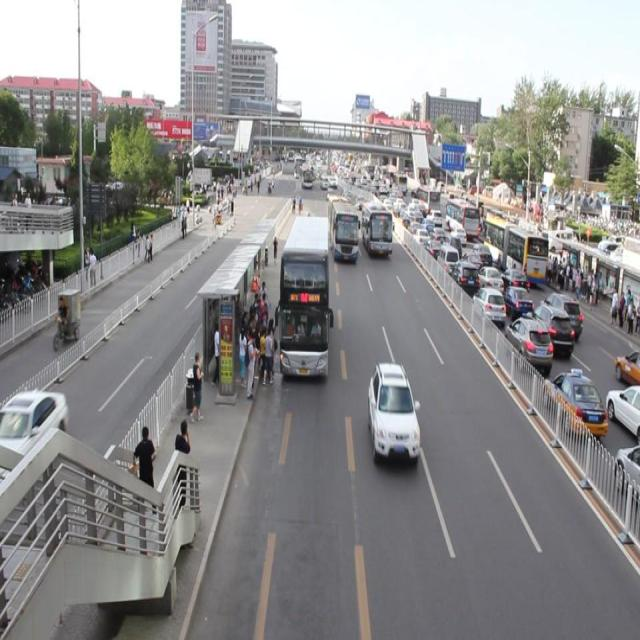car: (367, 362, 420, 464)
van: (280, 216, 327, 379), (328, 198, 357, 262), (361, 203, 390, 258)
